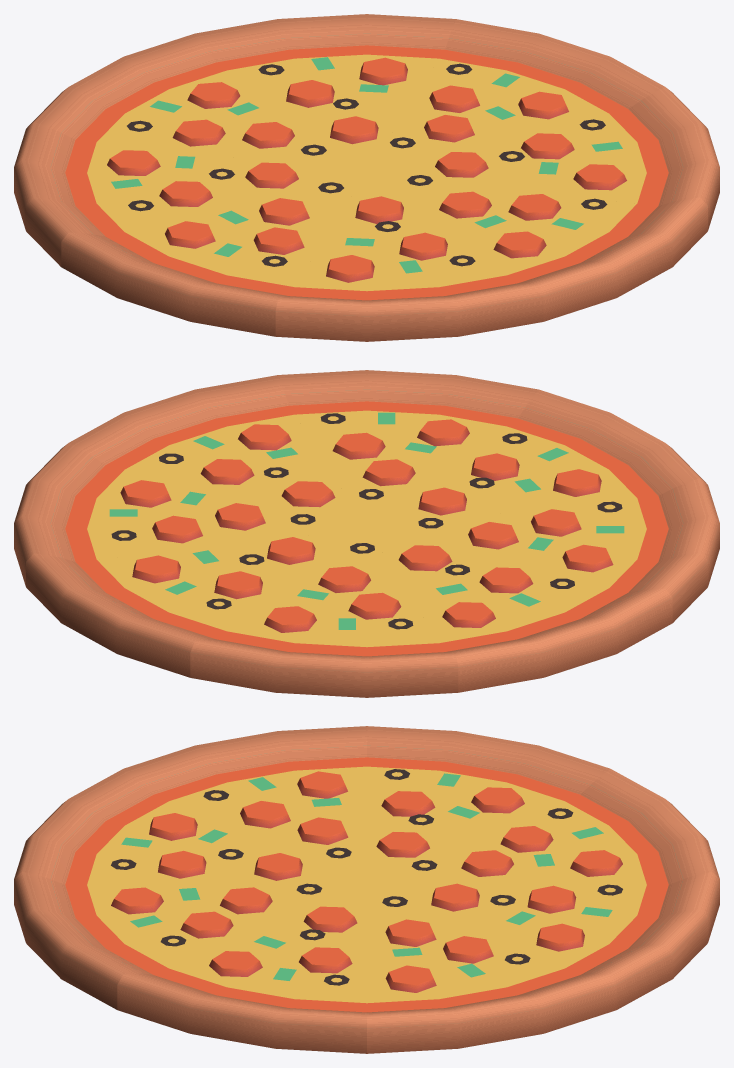
The model's file is pizza.glb.
The picture shows the model from 3 angles, top to bottom: view 1: azimuth 30°, elevation 25°; view 2: azimuth 150°, elevation 25°; view 3: azimuth 270°, elevation 25°; orthographic projection.
Visible parts, largest first — view 1: slice7, slice8, slice6, slice3, slice4, slice1, slice2, slice5; view 2: slice2, slice1, slice3, slice6, slice5, slice8, slice7, slice4; view 3: slice4, slice5, slice6, slice3, slice8, slice1, slice2, slice7.
Boxes of the visible parts, x1,y1,x2,y2 form: slice7: (275,173,543,341); slice8: (61,173,366,336); slice6: (367,173,707,321); slice3: (195,14,455,172); slice4: (367,19,664,172); slice1: (14,122,365,266); slice2: (27,33,366,172); slice5: (367,87,719,230); slice2: (190,529,458,697); slice1: (367,529,672,692); slice3: (26,529,366,677); slice6: (278,370,538,528); slice5: (69,375,366,528); slice8: (368,478,719,622); slice7: (367,389,705,528); slice4: (14,443,366,586); slice4: (367,885,616,1053); slice5: (117,885,366,1053); slice6: (14,871,365,1009); slice3: (368,871,719,1009); slice8: (124,726,366,884); slice1: (367,726,609,884); slice2: (367,769,719,884); slice7: (14,769,366,884).
Size of the model in its own units: 0.8418 by 0.0435 by 0.8418.
1 material, 1 textured.
